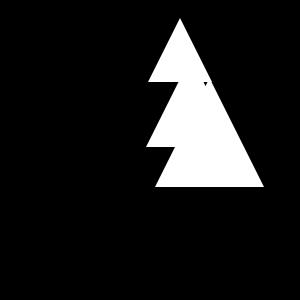triangle: (155, 78, 264, 187), (146, 57, 236, 147), (148, 18, 212, 82)
